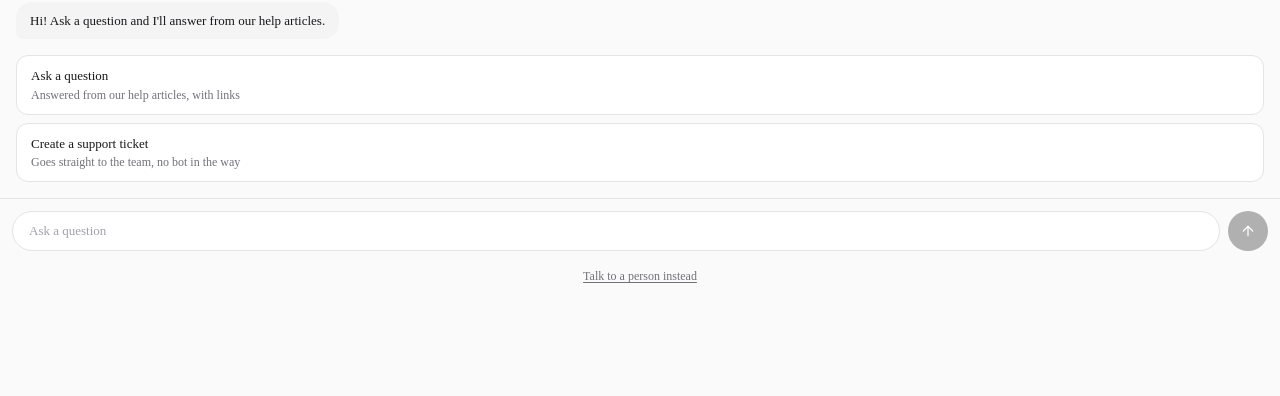
Test: Ask escalation offer › carries on normally after declining
In the field with placeholder "Ask a question": point(616, 231) x1=12 y1=211 x2=1220 y2=251, type "How do refunds work?"
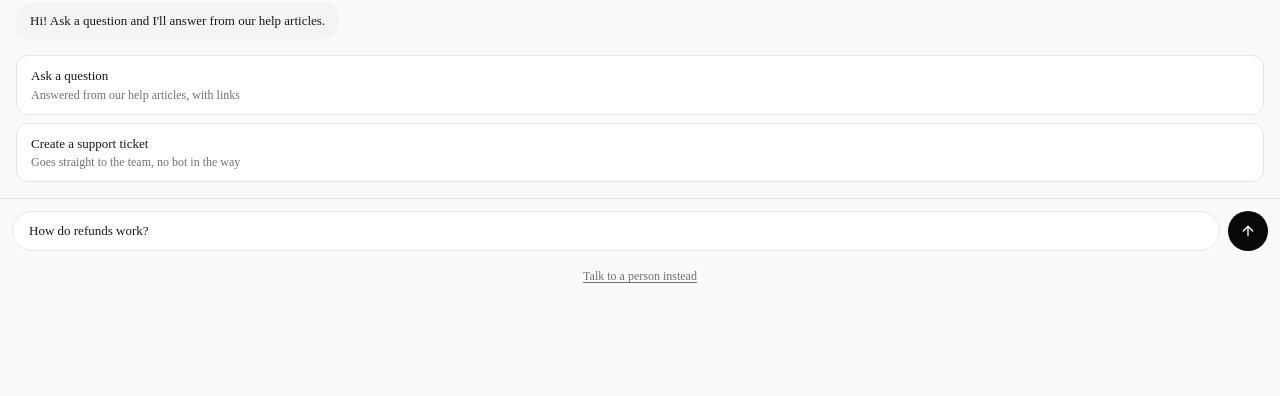
Click the button named "Ask": point(1248, 231) x1=1228 y1=211 x2=1268 y2=251
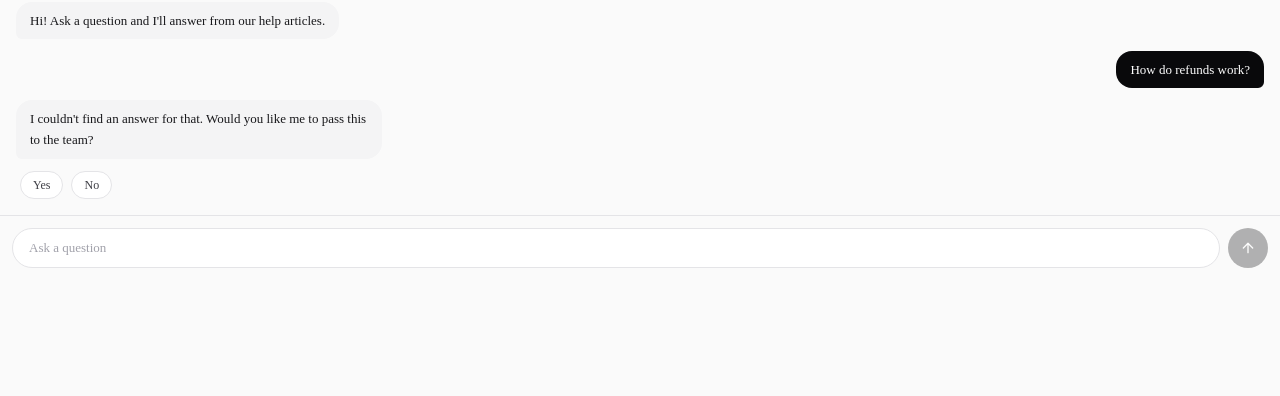
Click the button "No": point(92, 184) x1=72 y1=170 x2=112 y2=198
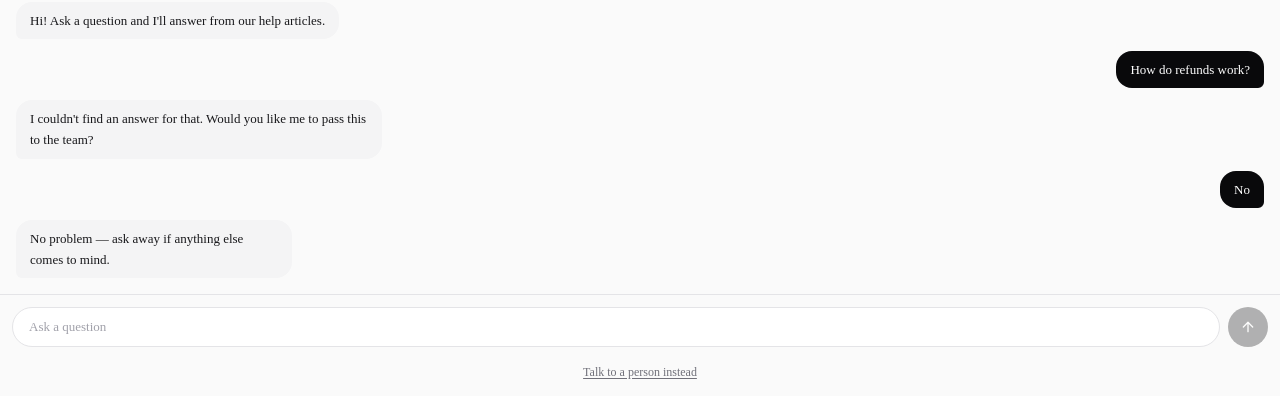
Expected: the field with placeholder "Ask a question" is enabled, x1=12 y1=307 x2=1220 y2=347
Now the text "No problem — ask away if anything else comes to mind." is shown, box x1=30 y1=228 x2=278 y2=270
Now the button "Yes" is gone
